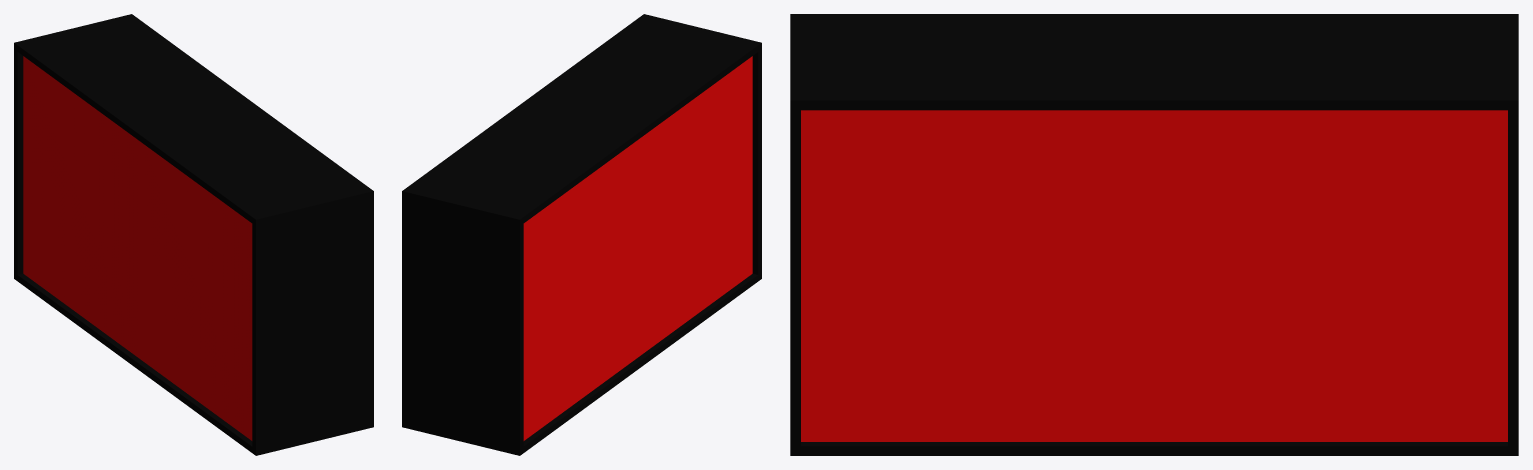
File: gameBoxOnly.fbx
The picture shows the model from 3 angles, left to right: view 1: azimuth 30°, elevation 25°; view 2: azimuth 150°, elevation 25°; view 3: azimuth 270°, elevation 25°; orthographic projection. The views are drawn at different scales.
Visible parts, largest first — view 1: GameBox_Working; view 2: GameBox_Working; view 3: GameBox_Working.
Boxes of the visible parts, x1=… form: GameBox_Working: x1=14, y1=14, x2=373, y2=455; GameBox_Working: x1=402, y1=14, x2=761, y2=455; GameBox_Working: x1=790, y1=14, x2=1518, y2=455.
Bounding box in the file's own units: 22.83 × 43.72 × 81.2.
